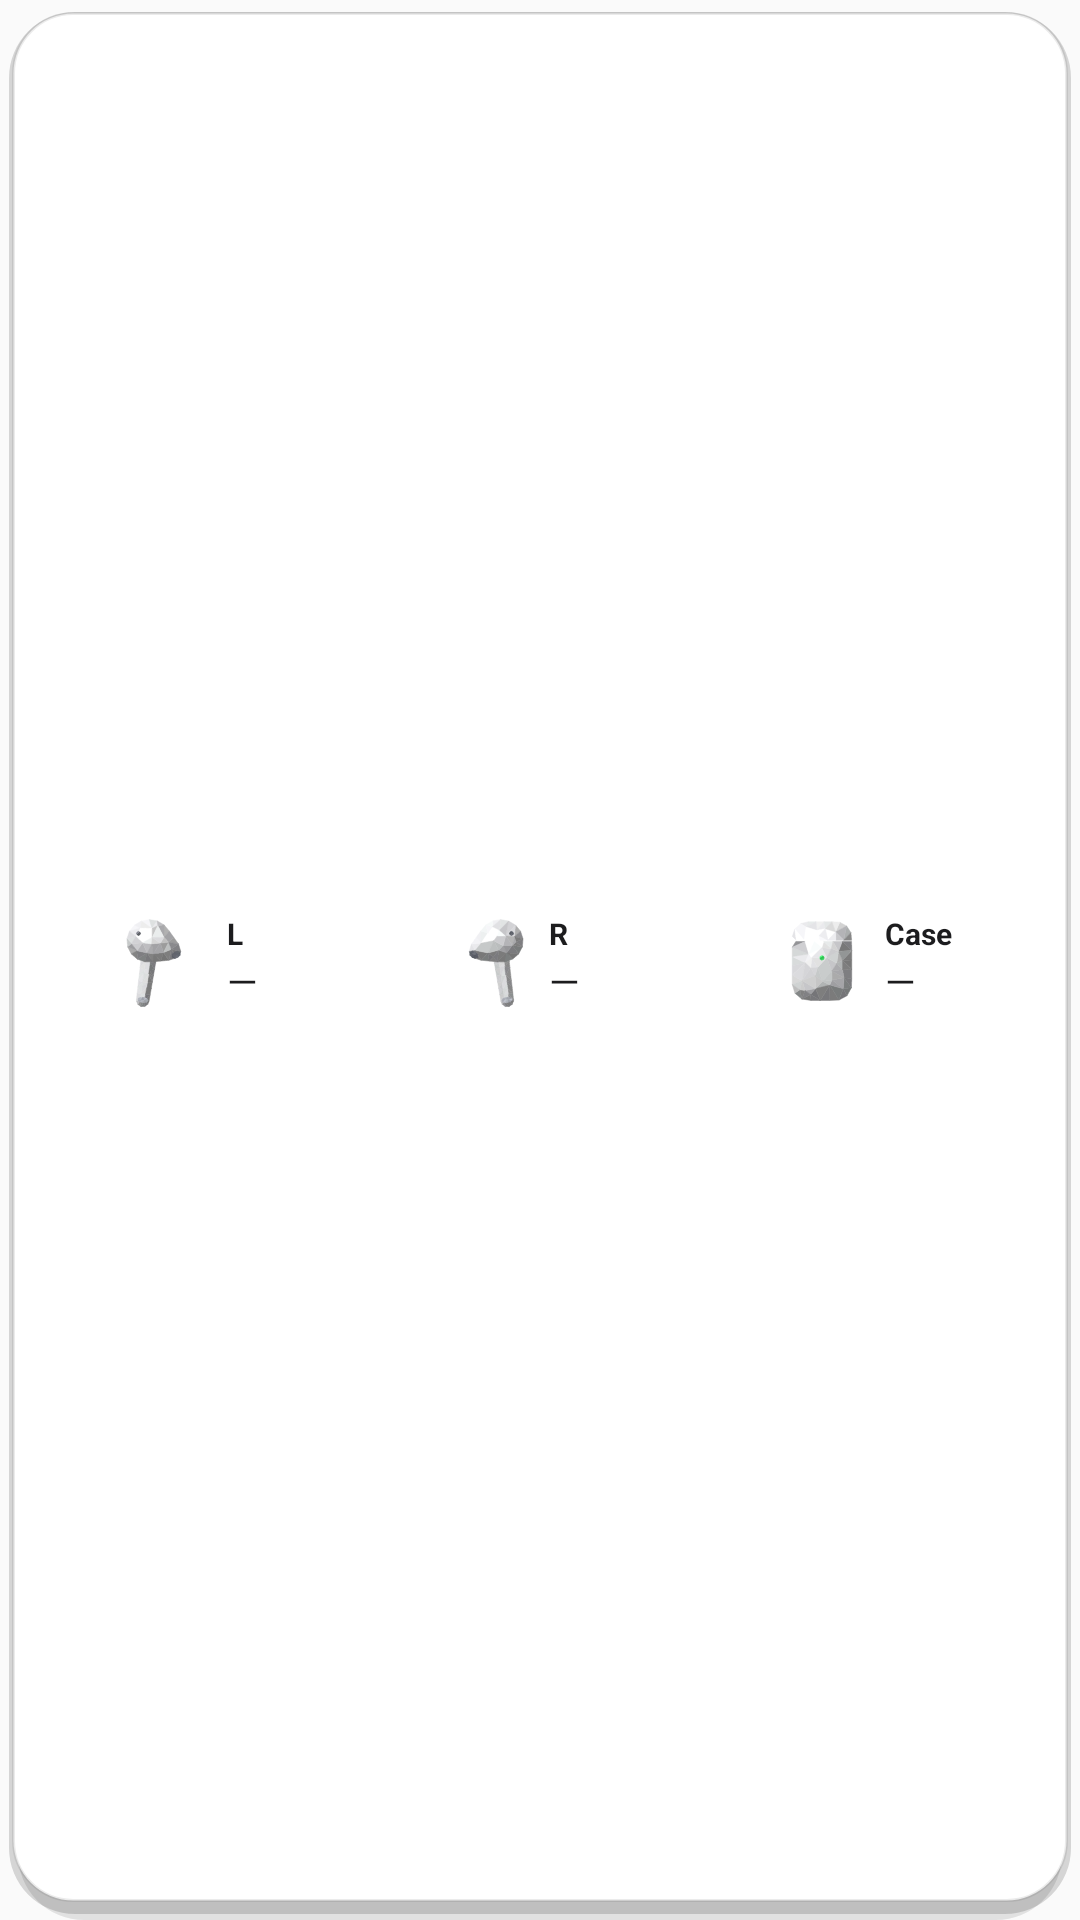

Where to tap for icons on this 1080w x 1920h app screen, as point (x, y):
pod left: point (154, 963)
pod right: point (496, 963)
